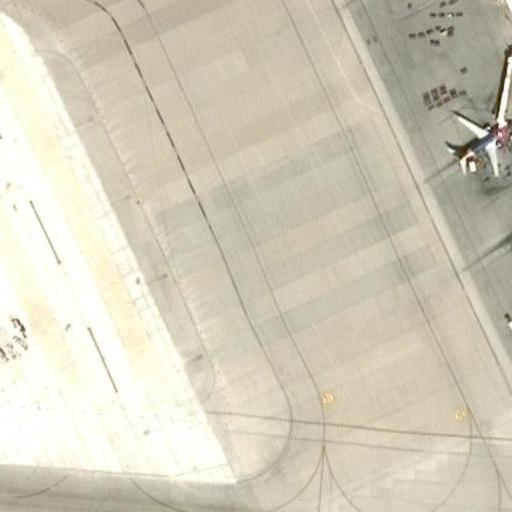Aircraft: (442, 103, 512, 175), (493, 493, 512, 512)
